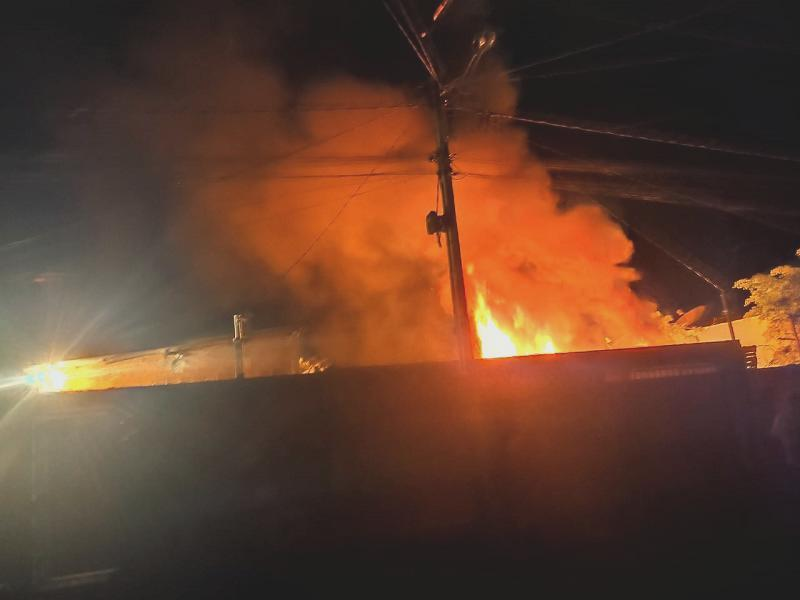Fire: (469, 289, 559, 357)
